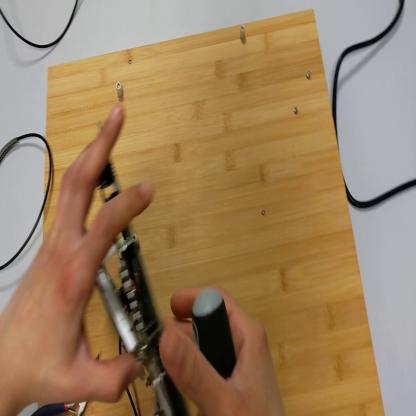hand: (13, 101, 154, 409), (162, 282, 287, 415)
low voltage board: (78, 163, 182, 416)
oscilloscope probe tip: (2, 133, 16, 164)
pliers: (33, 354, 101, 414)
screwdriver-: (194, 287, 237, 380)
working area: (45, 10, 385, 413)
